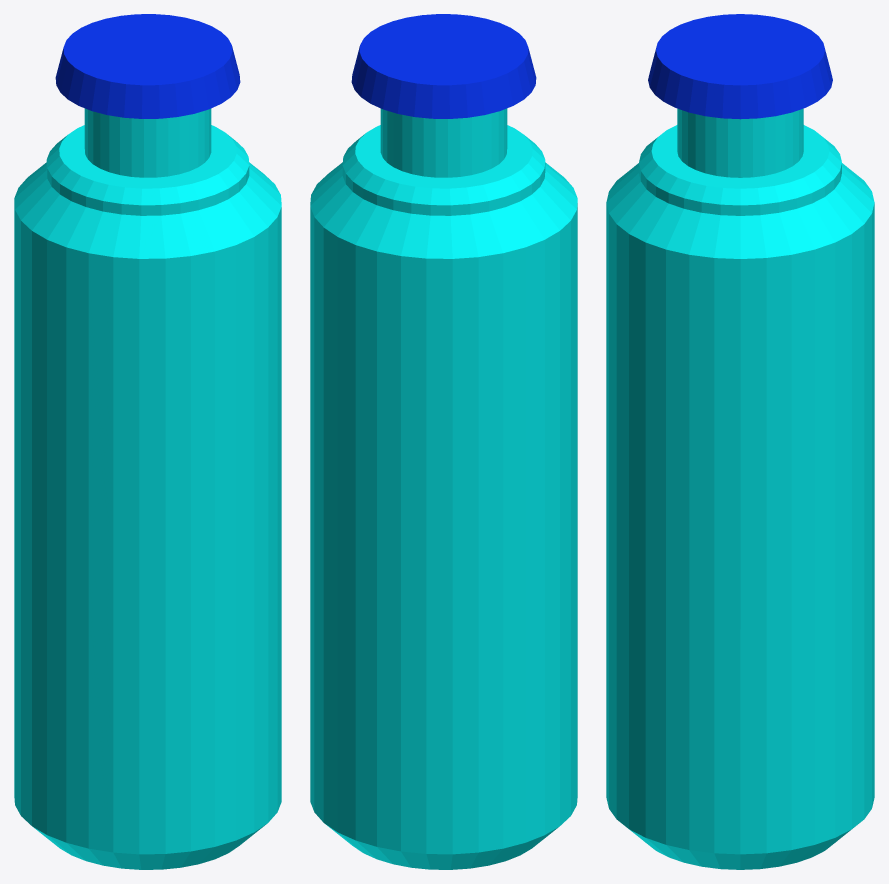
Rendered from waterbottle.fbx.
3 renders of one model, left to right at view 1: azimuth 30°, elevation 25°; view 2: azimuth 150°, elevation 25°; view 3: azimuth 270°, elevation 25°, orthographic.
Visible parts, largest first — view 1: waterbottle; view 2: waterbottle; view 3: waterbottle.
Boxes of the visible parts, <box> form: waterbottle: <box>14,14,281,869</box>; waterbottle: <box>310,14,577,869</box>; waterbottle: <box>606,14,874,869</box>.
Size of the model in its own units: 200 by 640 by 200.
